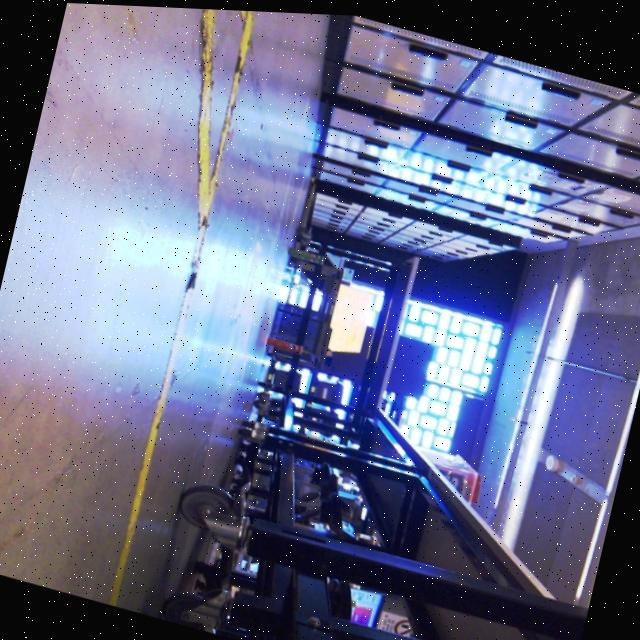greenpringles: (277, 232, 329, 266)
redpringles: (260, 327, 314, 360)
